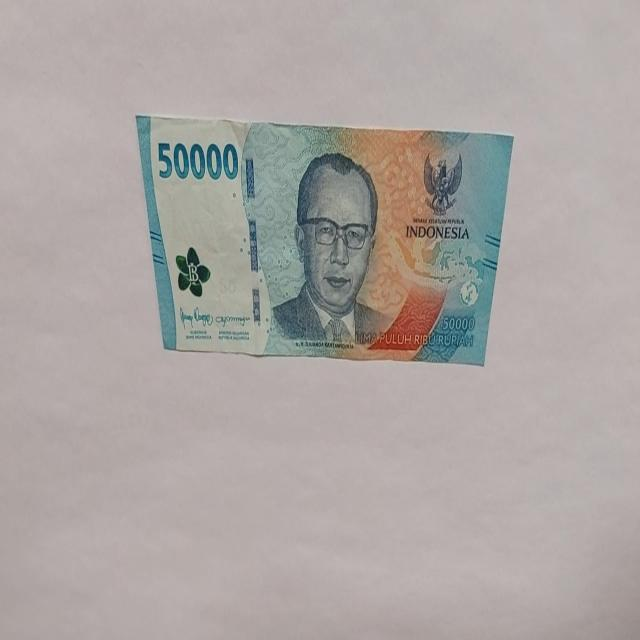lima puluh ribu rupiah: (134, 112, 514, 364), (269, 150, 391, 350), (156, 138, 239, 182)
